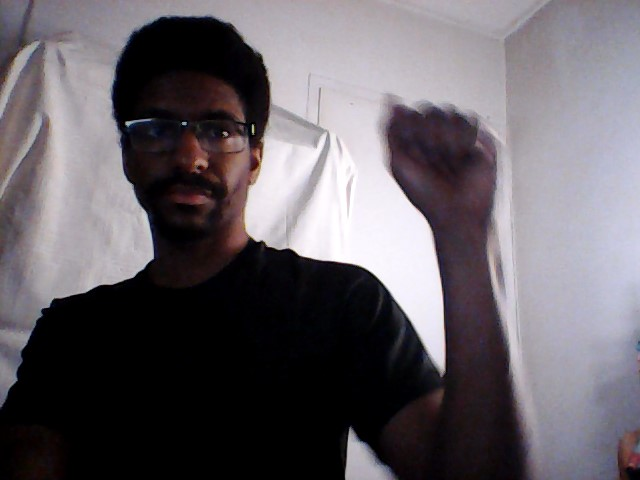a: (378, 91, 504, 228)
